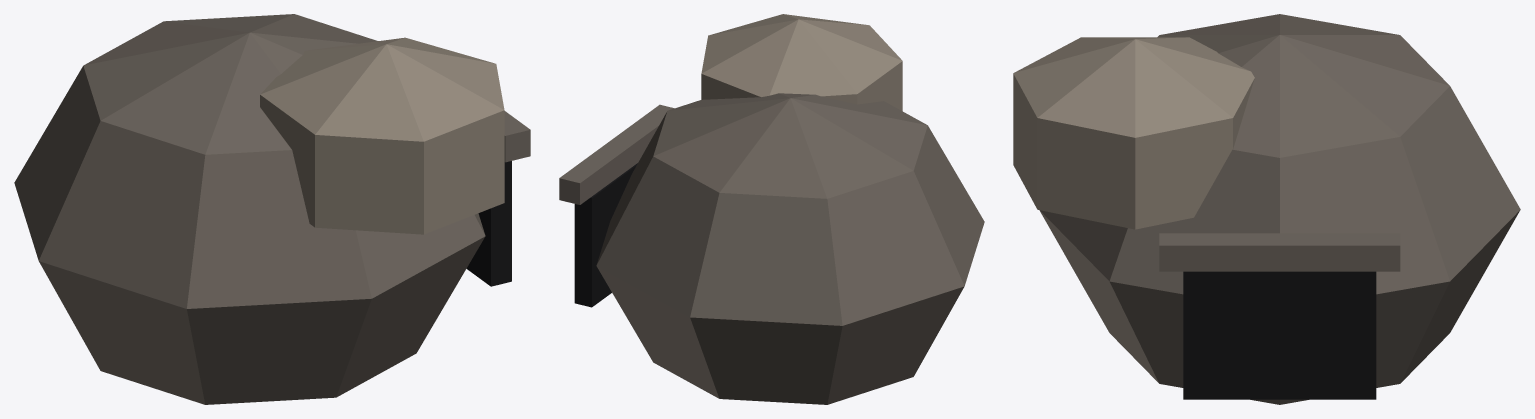
File: cueva_roca.obj
3 views of the same model, side by side, from view 1: azimuth 30°, elevation 25°; view 2: azimuth 150°, elevation 25°; view 3: azimuth 270°, elevation 25° (orthographic). The views are drawn at different scales.
Parts seen in each view (by area): view 1: cueva_roca; view 2: cueva_roca; view 3: cueva_roca.
Part boxes in pixels (x1,y1,x2,y2): cueva_roca: (14, 14, 530, 404); cueva_roca: (559, 14, 984, 404); cueva_roca: (1013, 14, 1520, 404).
Bounding box in the file's own units: 20.4 × 17.2 × 21.07.
